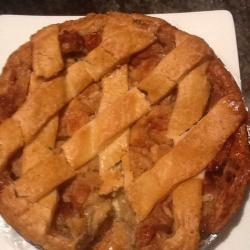apple_pie: (1, 12, 247, 249)
